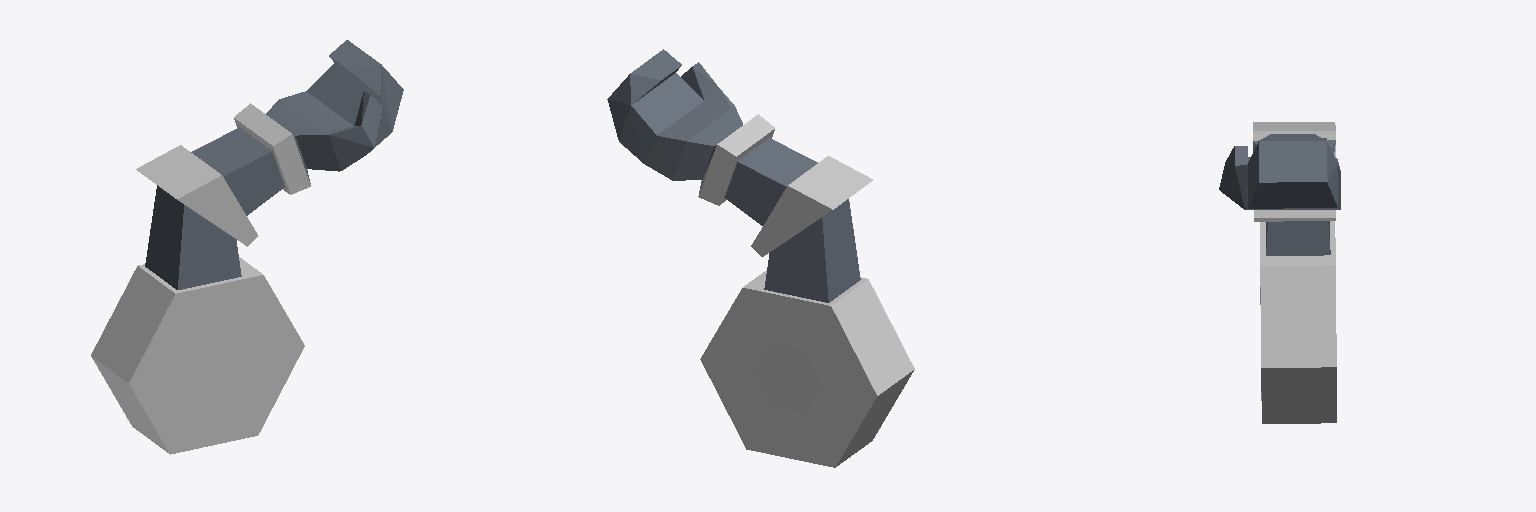
File: arm_upper_R.obj
3 views of the same model, side by side, from view 1: azimuth 30°, elevation 25°; view 2: azimuth 150°, elevation 25°; view 3: azimuth 270°, elevation 25° (orthographic).
Parts seen in each view (by area): view 1: robo_Untitled.015; view 2: robo_Untitled.015; view 3: robo_Untitled.015.
Part boxes in pixels (left/top/right/bottom): robo_Untitled.015: left=91, top=40, right=403, bottom=454; robo_Untitled.015: left=607, top=49, right=914, bottom=467; robo_Untitled.015: left=1219, top=122, right=1340, bottom=423.
Size of the model in its own units: 1.16 by 1.38 by 0.4475.